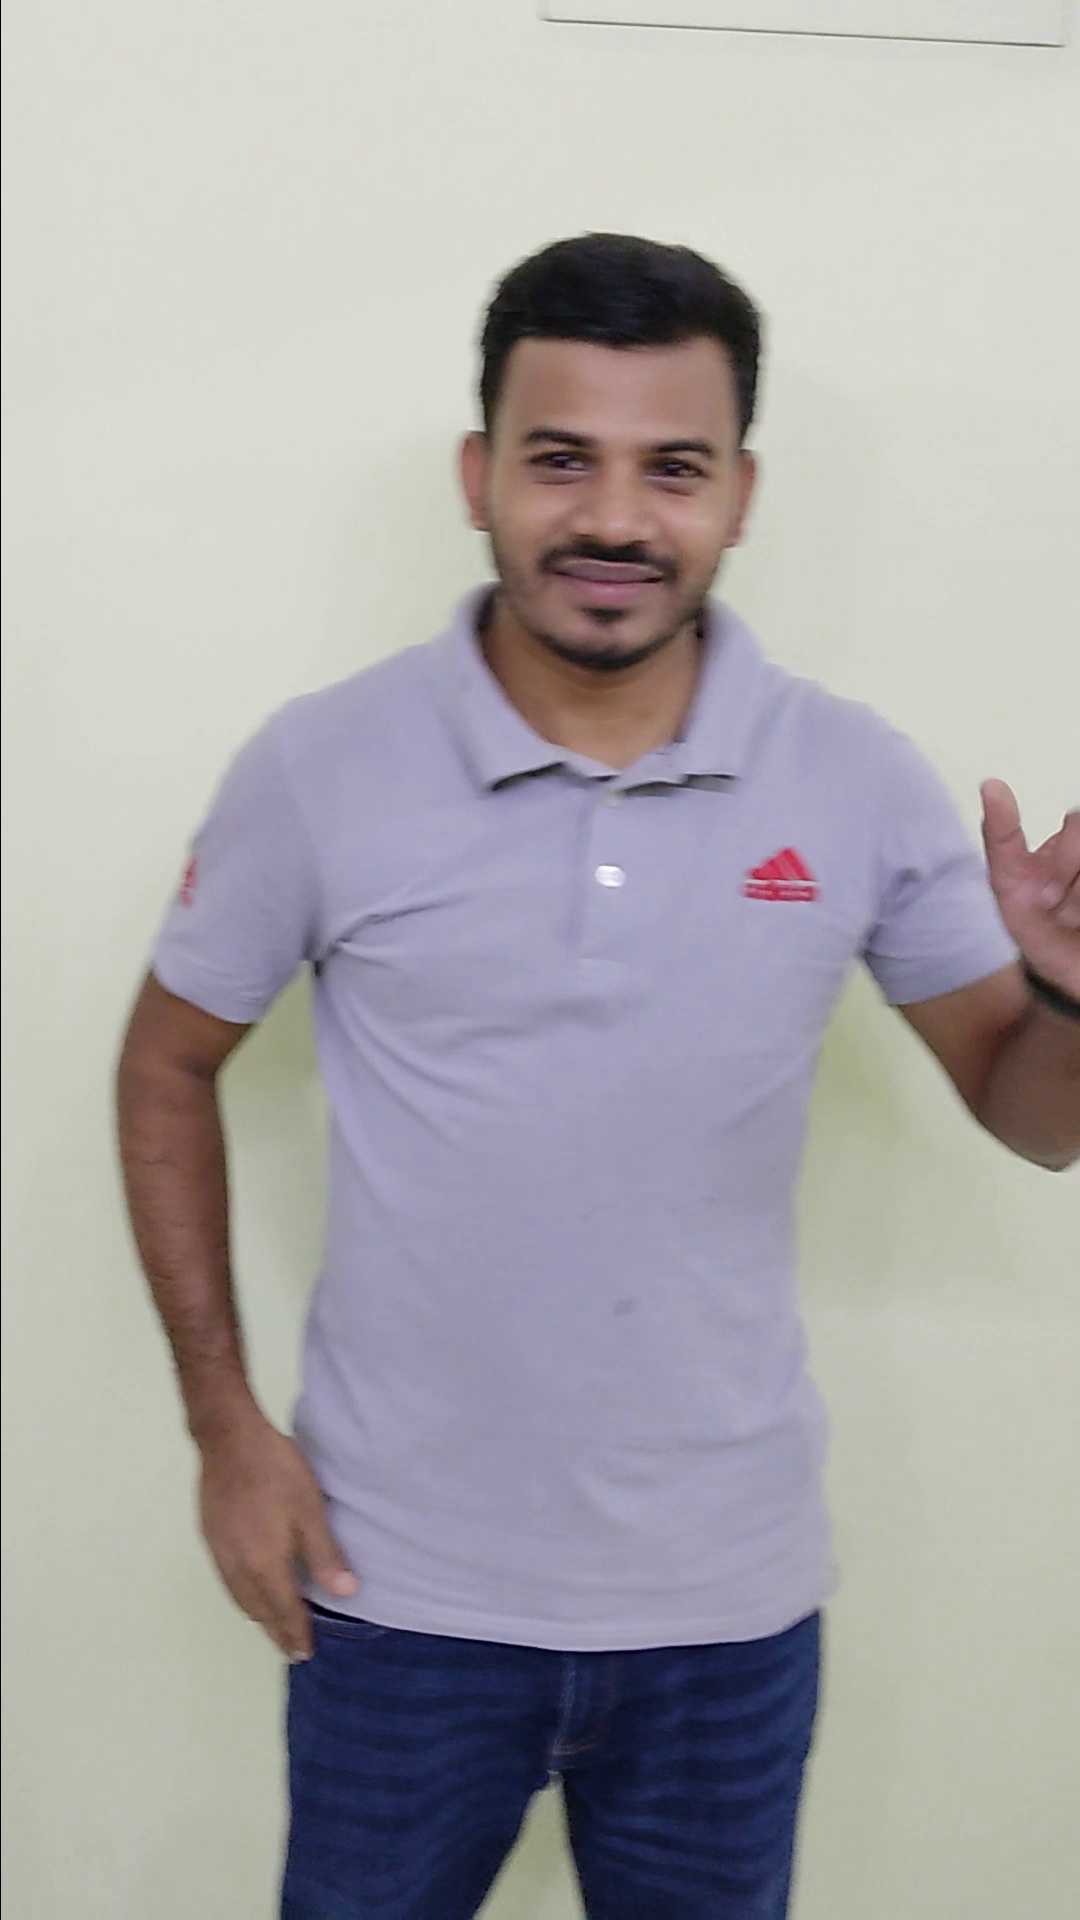Like: (975, 756, 1080, 1025)
None: (158, 1379, 378, 1687)
